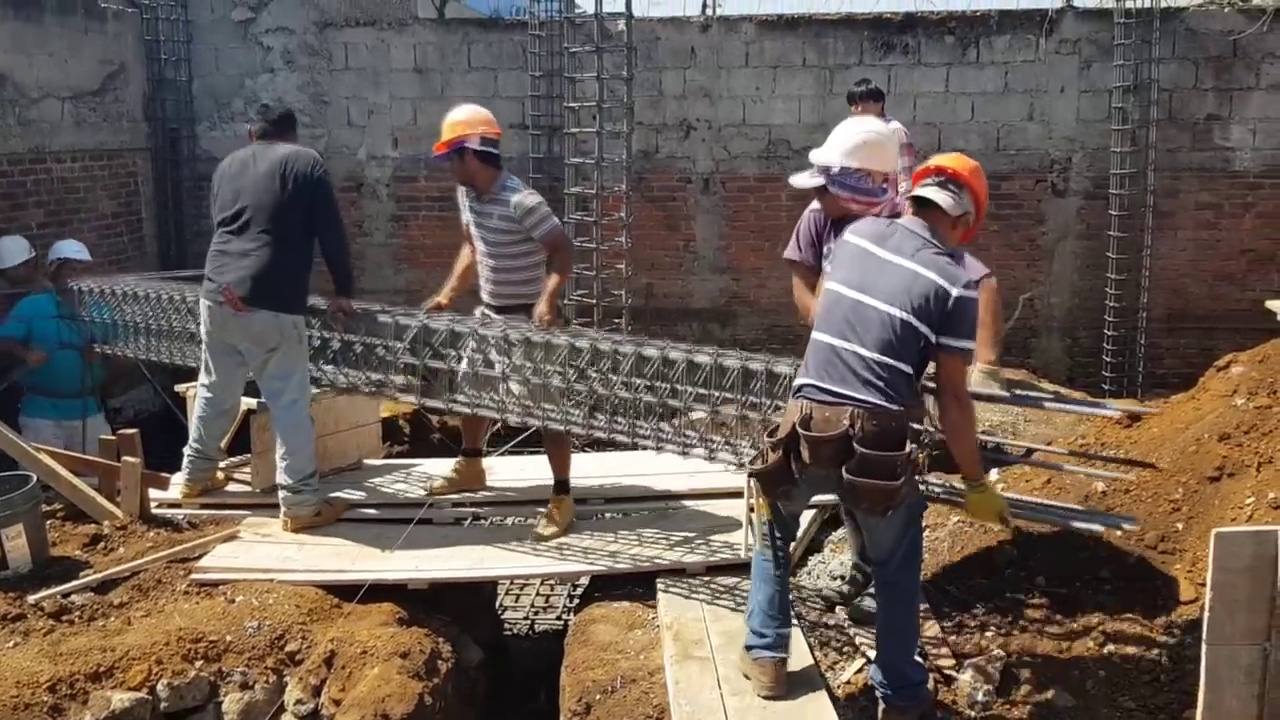helmet: (915, 146, 995, 237), (803, 118, 909, 184), (431, 105, 499, 153), (46, 236, 93, 271), (0, 235, 36, 272)
helmet-off: (245, 104, 294, 150), (843, 80, 887, 122)
helmet-on: (891, 144, 996, 254), (804, 121, 908, 227), (430, 97, 505, 196), (45, 235, 95, 301), (0, 233, 50, 296)
person: (740, 140, 1017, 697), (175, 98, 357, 526), (425, 94, 581, 540), (3, 236, 112, 492), (787, 117, 907, 323)
